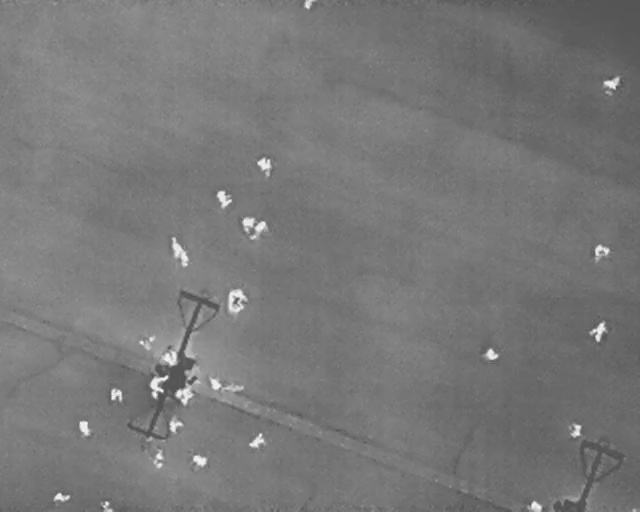Person: (165, 233, 192, 270), (246, 216, 272, 244), (587, 316, 612, 345), (228, 286, 247, 315), (246, 430, 269, 452), (214, 186, 234, 210), (172, 386, 196, 406), (149, 375, 168, 400), (594, 241, 610, 266), (255, 157, 273, 179), (604, 75, 621, 96), (567, 420, 584, 441), (160, 346, 178, 365), (482, 345, 499, 363), (190, 452, 209, 468), (77, 419, 92, 437), (51, 492, 73, 504), (136, 336, 154, 350), (152, 451, 166, 469), (242, 215, 254, 234), (168, 419, 183, 434), (109, 388, 123, 404), (208, 377, 222, 391), (527, 501, 542, 511), (100, 501, 114, 511), (303, 0, 313, 11)
